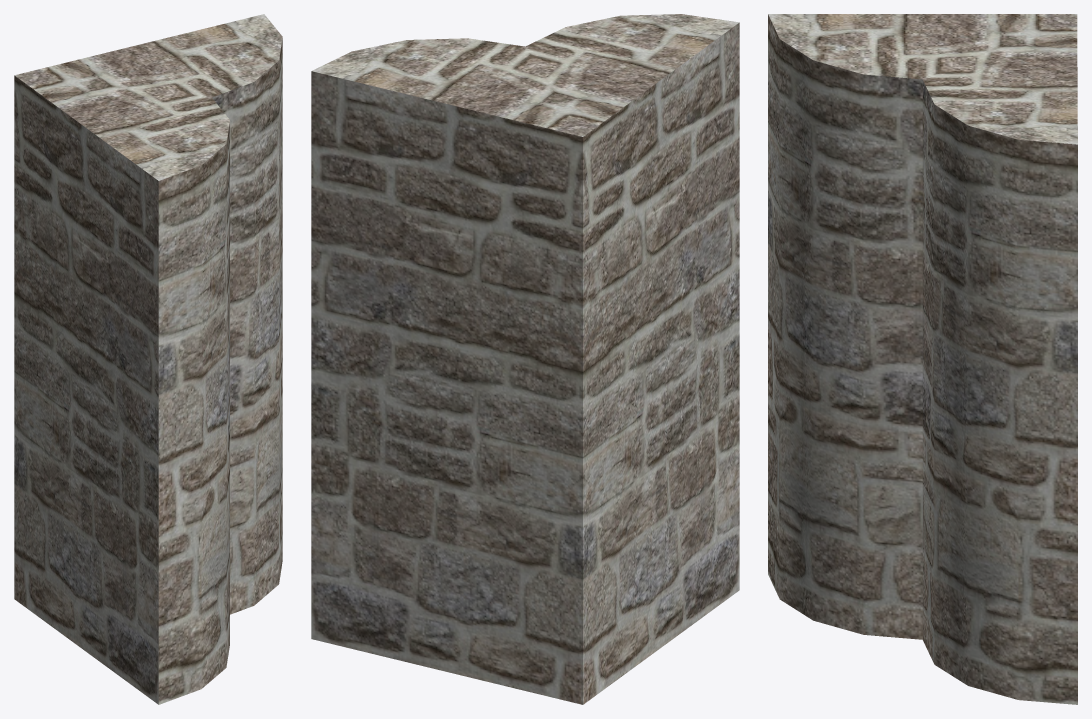
The model's file is wall_big4.obj.
3 views of the same model, side by side, from view 1: azimuth 30°, elevation 25°; view 2: azimuth 150°, elevation 25°; view 3: azimuth 270°, elevation 25° (orthographic). The views are drawn at different scales.
Bounding box in the file's own units: 1 × 2 × 1.
Materials: 1 (1 with a texture image).
